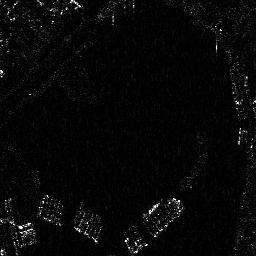ship: (228, 70, 246, 120)
